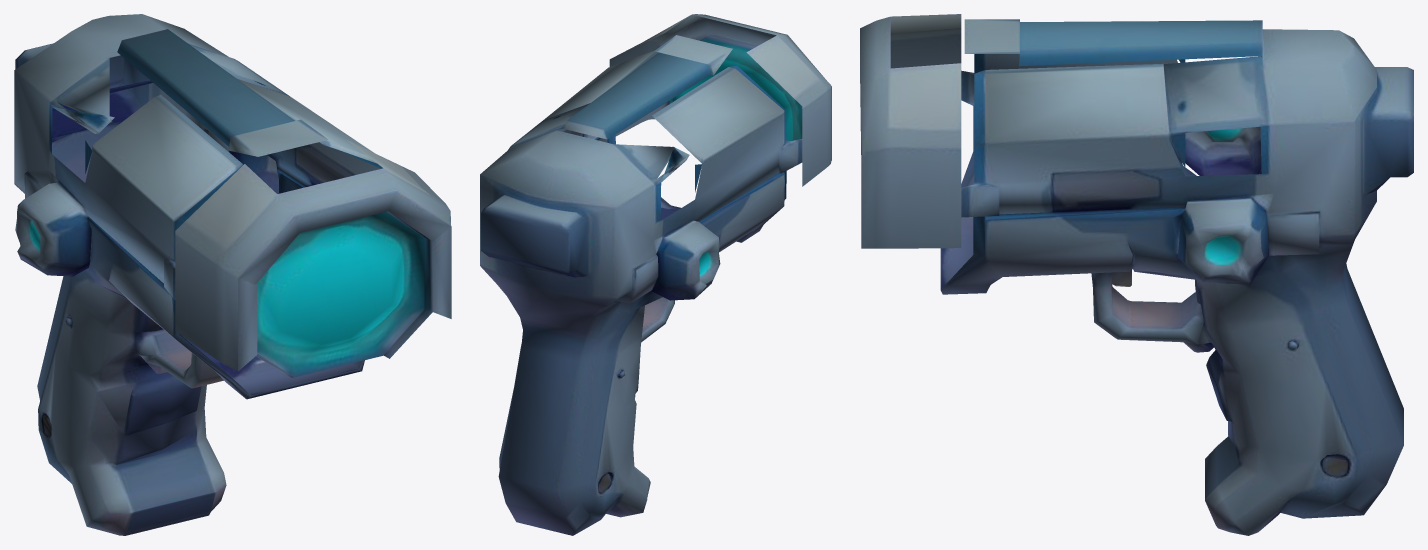
File: tripo-cutter.glb
3 views of the same model, side by side, from view 1: azimuth 30°, elevation 25°; view 2: azimuth 150°, elevation 25°; view 3: azimuth 270°, elevation 25° (orthographic). The views are drawn at different scales.
Visible parts, largest first — view 1: tripo_node_2d6b3b8c-19bf-4fc7-a443-120131ba846a; view 2: tripo_node_2d6b3b8c-19bf-4fc7-a443-120131ba846a; view 3: tripo_node_2d6b3b8c-19bf-4fc7-a443-120131ba846a.
Boxes of the visible parts, bbox=[...] form: tripo_node_2d6b3b8c-19bf-4fc7-a443-120131ba846a: bbox=[14, 14, 451, 535]; tripo_node_2d6b3b8c-19bf-4fc7-a443-120131ba846a: bbox=[480, 14, 831, 535]; tripo_node_2d6b3b8c-19bf-4fc7-a443-120131ba846a: bbox=[860, 14, 1413, 535].
Size of the model in its own units: 0.5812 by 0.953 by 0.9961.
Materials: 1 (1 with a texture image).
